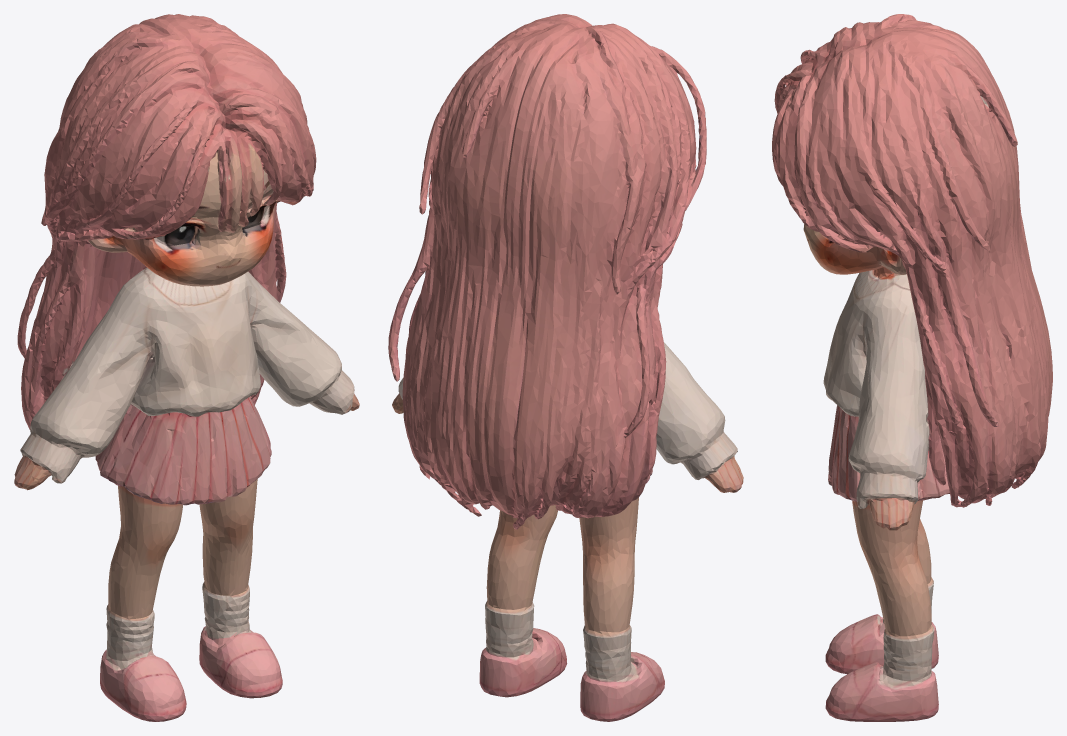
Rendered from tang.glb.
3 views of the same model, side by side, from view 1: azimuth 30°, elevation 25°; view 2: azimuth 150°, elevation 25°; view 3: azimuth 270°, elevation 25° (orthographic).
Visible parts, largest first — view 1: textured_mesh.obj; view 2: textured_mesh.obj; view 3: textured_mesh.obj.
Part boxes in pixels (left/top/right/bottom): textured_mesh.obj: left=14, top=14, right=359, bottom=721; textured_mesh.obj: left=388, top=14, right=743, bottom=721; textured_mesh.obj: left=772, top=14, right=1052, bottom=721.
Size of the model in its own units: 1.08 by 1.99 by 0.771.
Materials: 1 (1 with a texture image).
